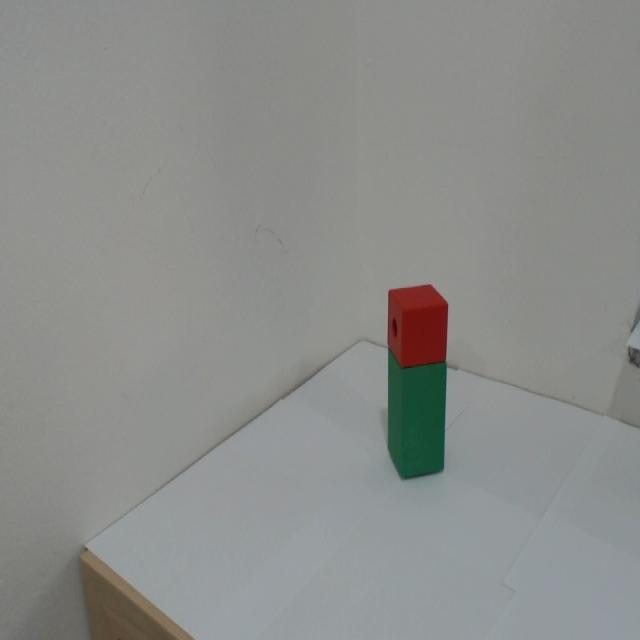cube: (367, 262, 456, 364)
